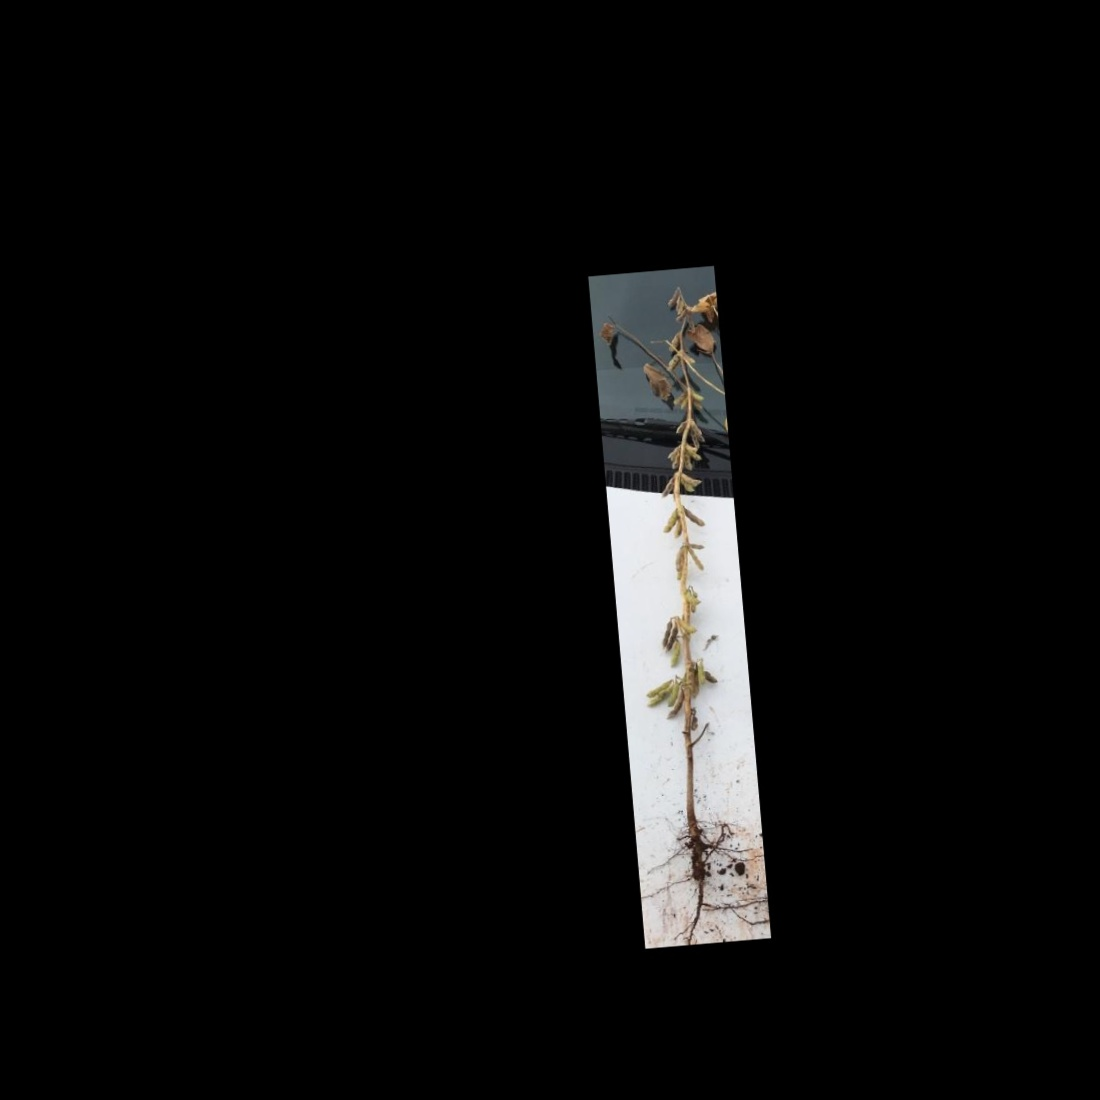pod: (683, 503, 707, 529), (688, 546, 706, 573), (668, 639, 682, 672), (665, 681, 681, 708), (677, 618, 699, 635), (703, 668, 721, 686), (697, 659, 706, 686)
soy: (599, 285, 765, 925)
